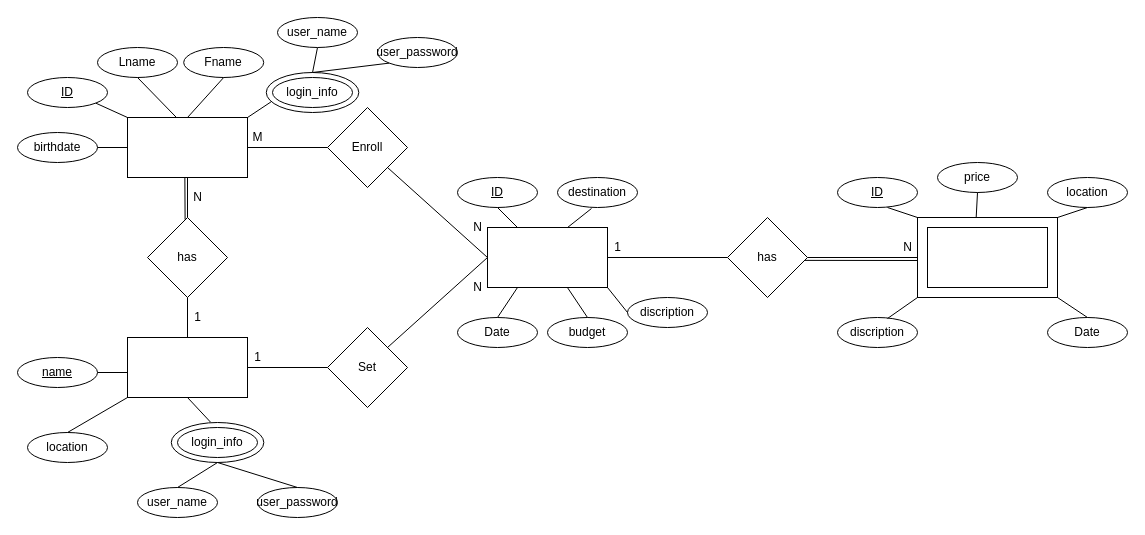
The diagram is 1145 pixels wide and 535 high, and some of its shapes have lost their labels. The centre of each missing label's shape, as x and y in pixels:
"Company" belongs at pixel 187 367.
"Employee" belongs at pixel 187 147.
"Expenses" belongs at pixel 987 257.
"Trip" belongs at pixel 547 257.
